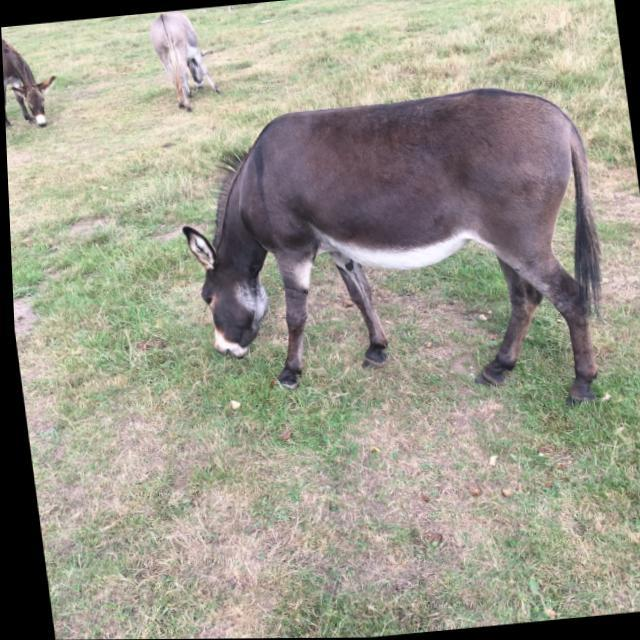Donkey: (162, 77, 621, 446), (144, 8, 224, 114), (1, 27, 63, 131)
